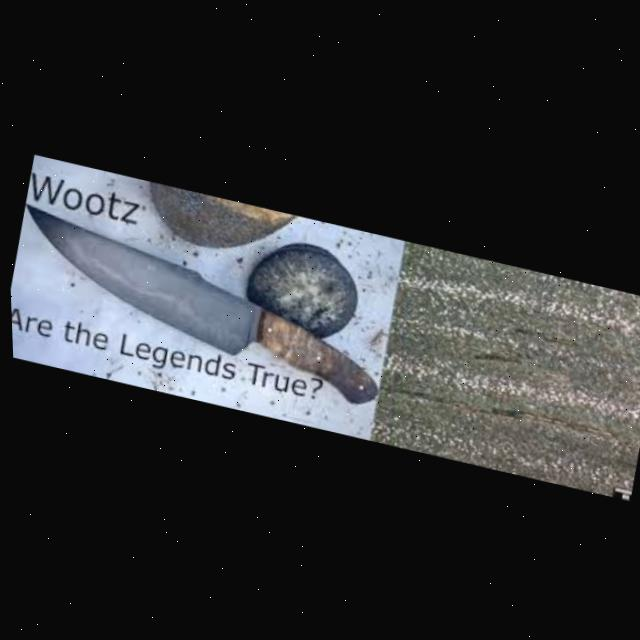knife: (6, 200, 395, 404)
